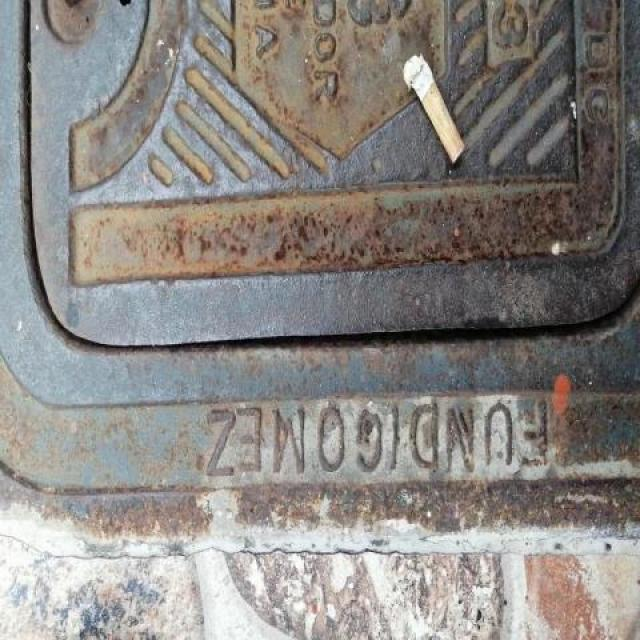non-organic waste: (398, 53, 466, 168)
